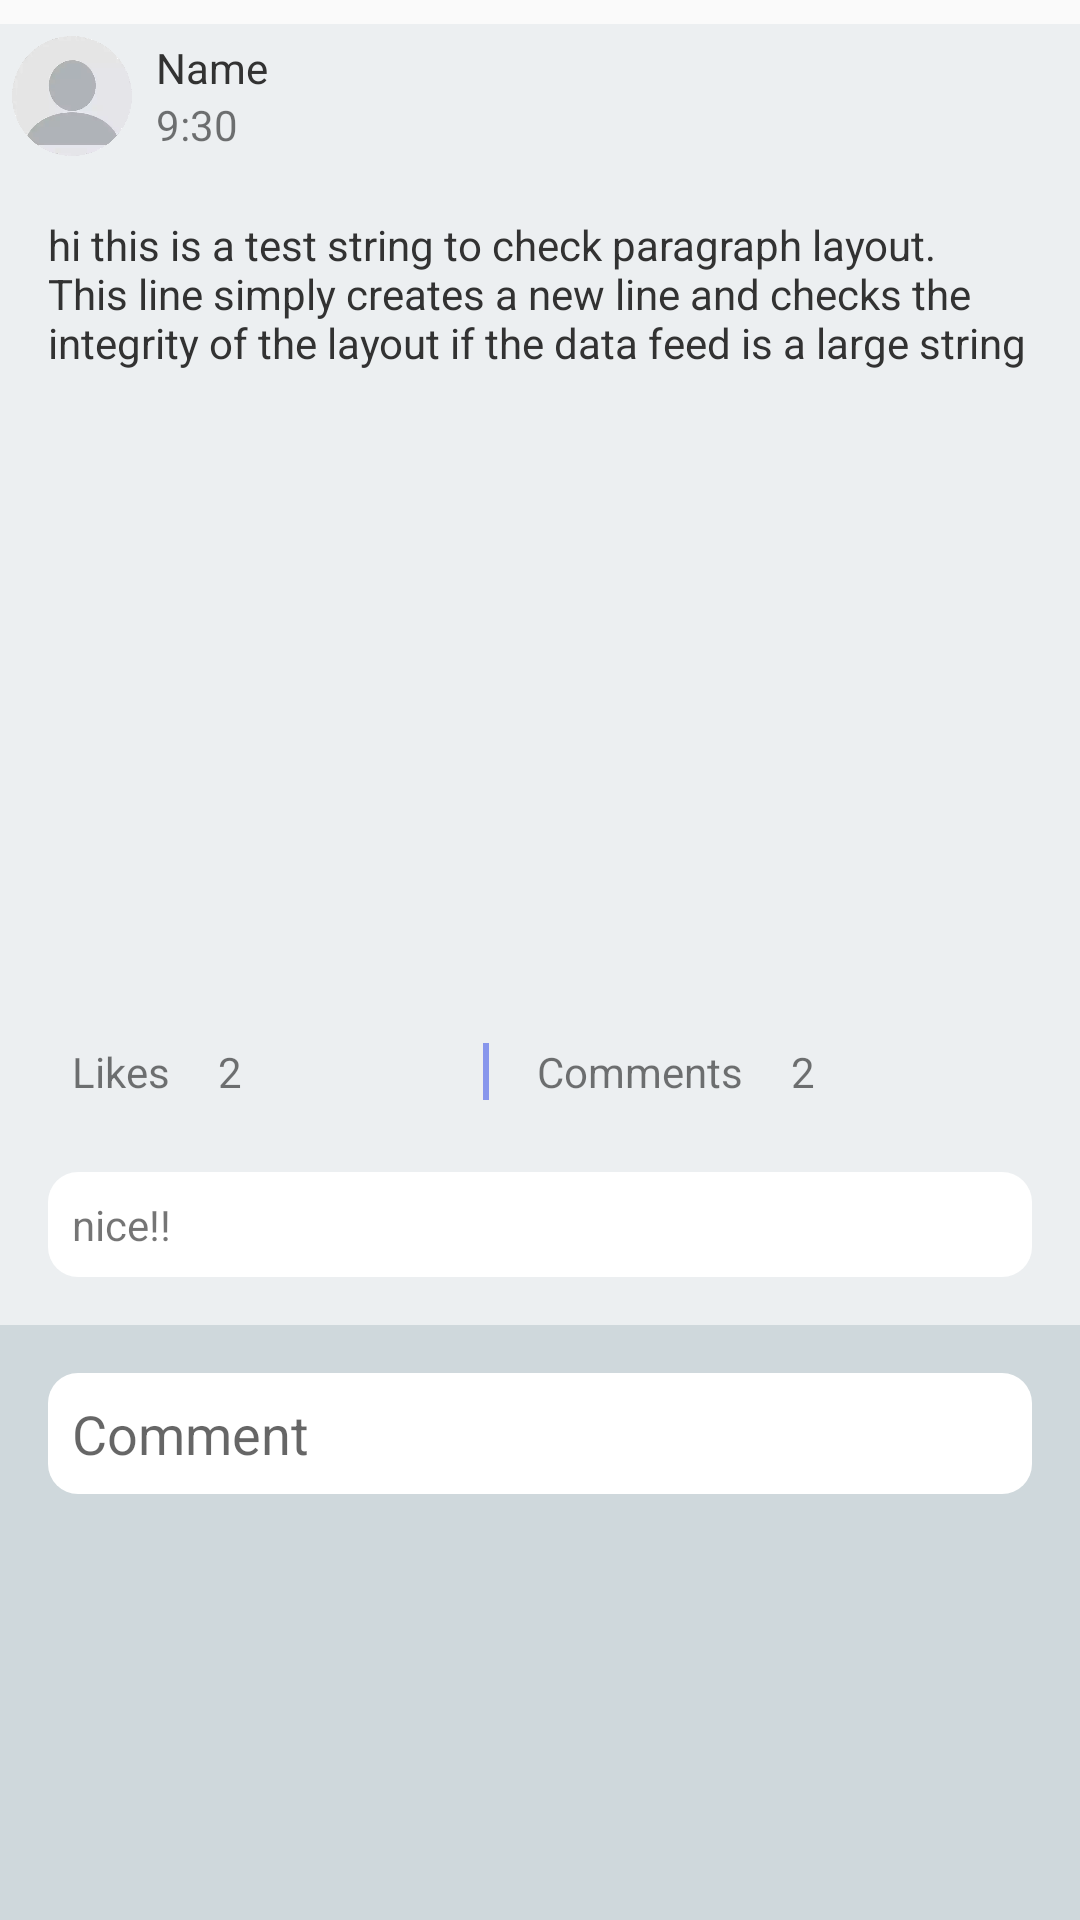

Icons on this 1080*1920 Android screen, each with the point to tap as (x=x, y=y):
blank profile: (x=72, y=96)
